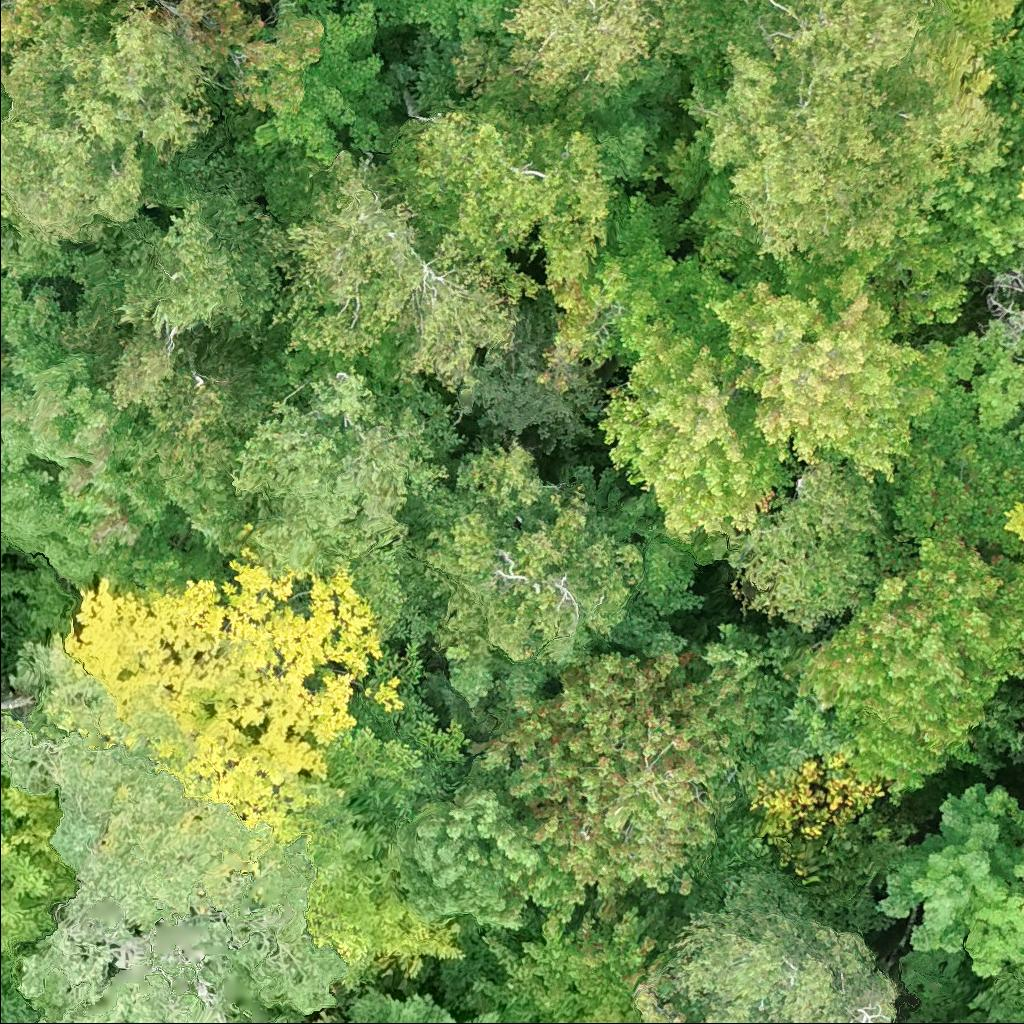crown: (61, 550, 408, 867), (679, 0, 1009, 284), (473, 618, 767, 925), (0, 275, 228, 594), (396, 435, 649, 709), (787, 519, 1023, 789), (281, 150, 517, 394), (0, 2, 226, 250), (708, 260, 935, 484), (385, 96, 619, 304), (231, 363, 454, 574), (597, 310, 795, 546), (666, 863, 898, 1023), (298, 777, 468, 991), (725, 454, 916, 632), (323, 634, 471, 838), (539, 188, 686, 391), (875, 779, 1023, 979), (497, 0, 721, 131), (400, 769, 577, 929), (233, 0, 396, 171), (103, 317, 272, 477), (119, 188, 293, 339), (465, 902, 655, 1023), (872, 417, 1023, 557), (158, 0, 324, 116), (0, 766, 74, 993), (906, 318, 1023, 433), (349, 552, 434, 646), (338, 0, 518, 43), (0, 0, 122, 58), (347, 983, 502, 1023), (634, 960, 693, 1023), (964, 966, 1023, 1023), (999, 499, 1023, 552), (1011, 159, 1023, 200), (1020, 114, 1023, 122)
